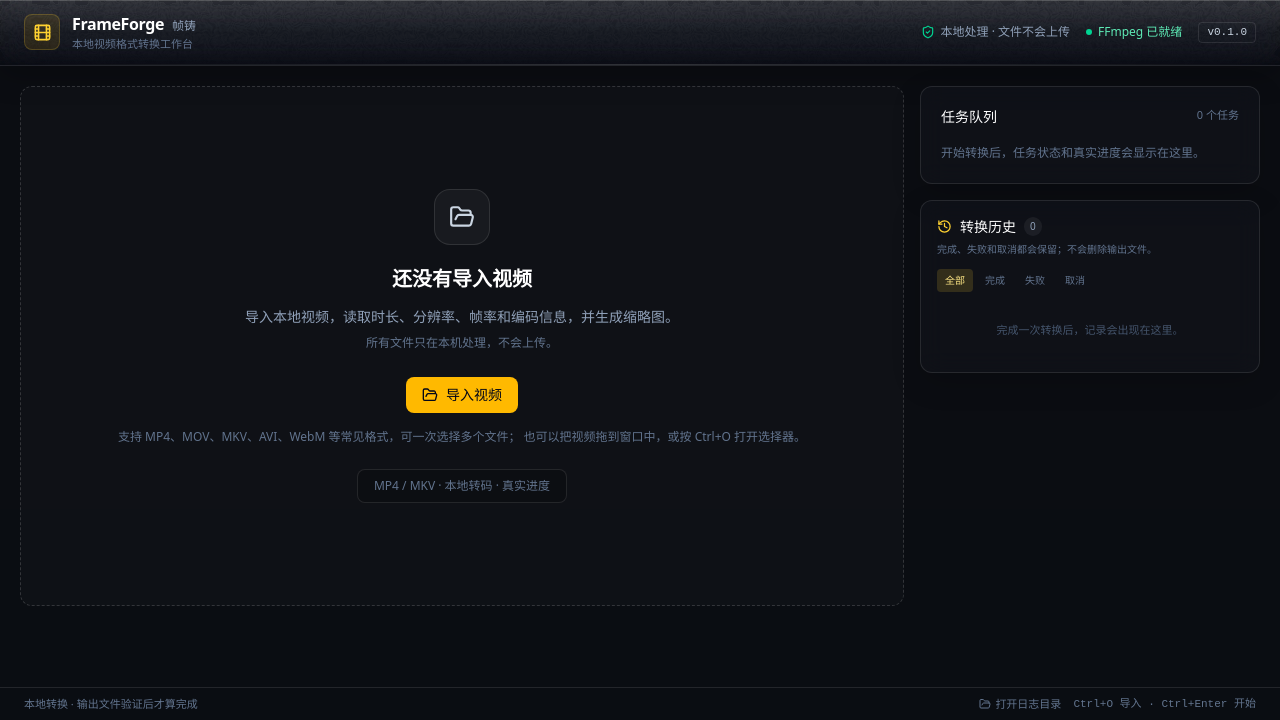
Test case: 阶段 2 / 导入 UI › 导入后显示缩略图、时长、分辨率、编码和大小
Expected: the text "FFmpeg 已就绪" is shown, 1086,24 -> 1182,40
Click the button "导入视频".
click(462, 394)  # box 406,376 -> 518,412
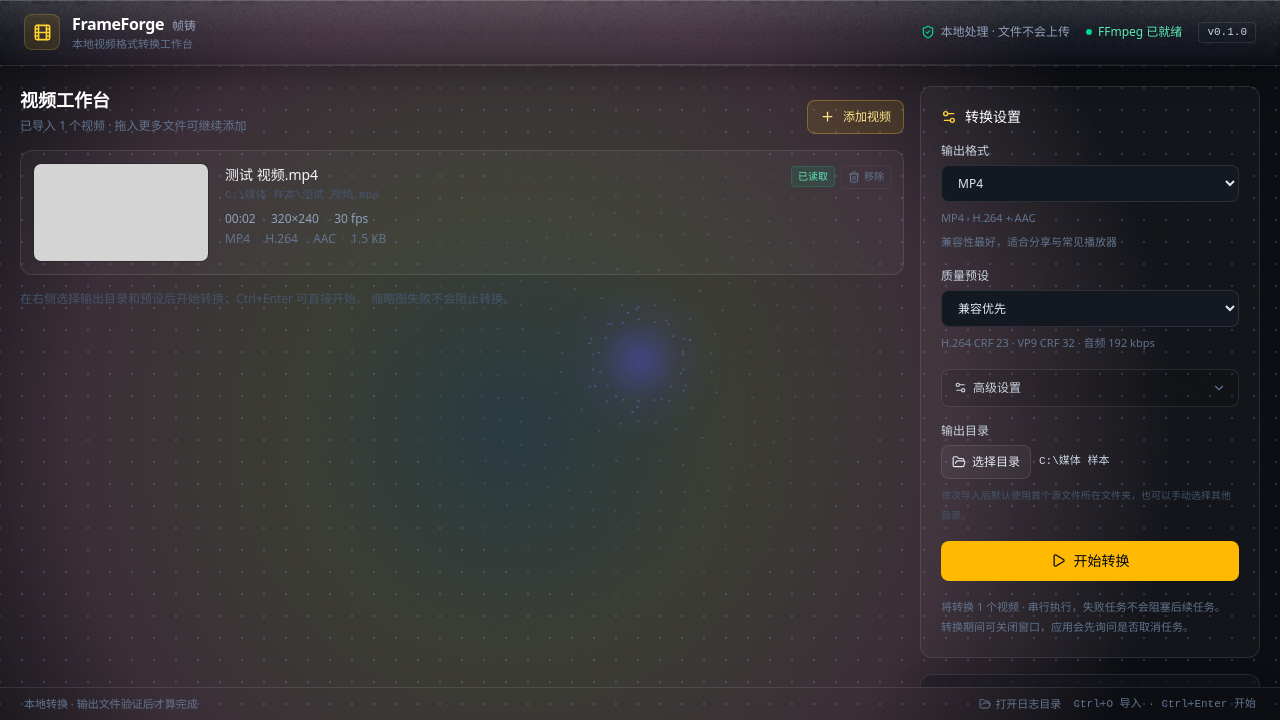
Now the heading "测试 视频.mp4" is shown, box 225,164 -> 318,184
Now the element "测试 视频.mp4" is shown, box 20,150 -> 904,274
Now the text "00:02·320×240·30 fps" is shown, box 225,210 -> 368,227
